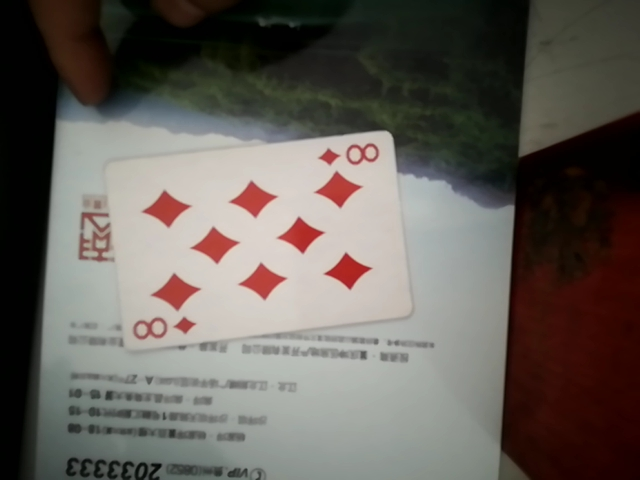fk 8: (96, 131, 404, 351)
